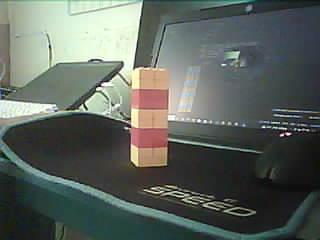lego: (131, 67, 169, 168)
